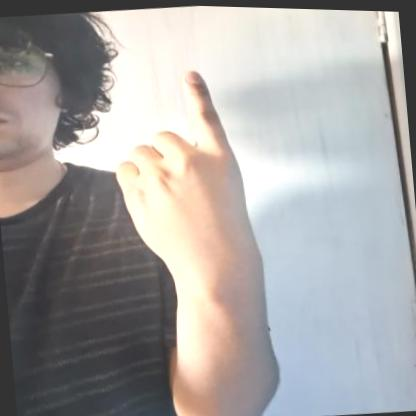T: (107, 61, 248, 271)
